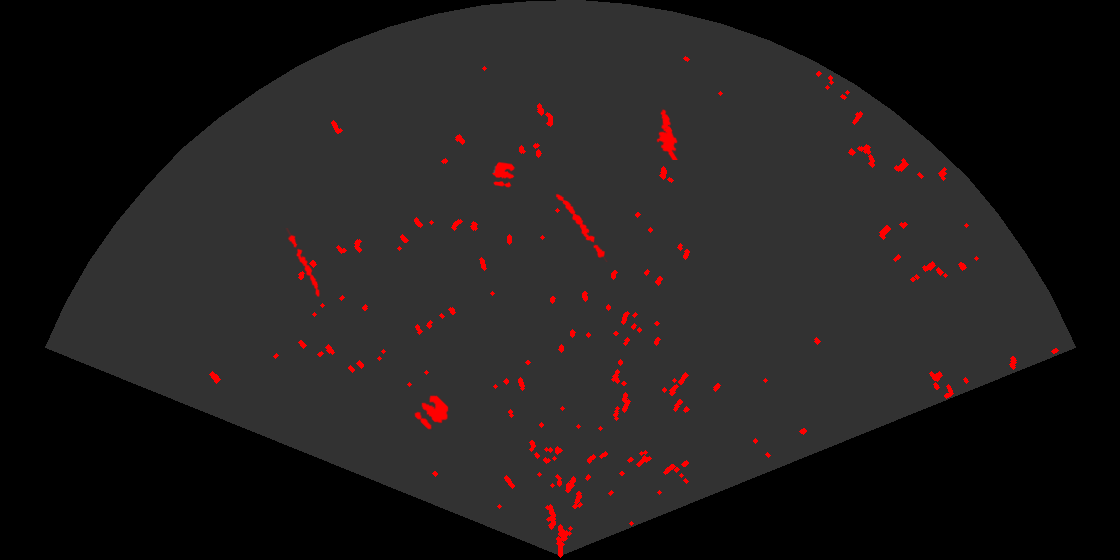ball: (413, 394, 450, 431), (490, 160, 517, 189)
chain: (554, 192, 609, 262), (284, 228, 322, 299)
frogman: (655, 107, 680, 160)
